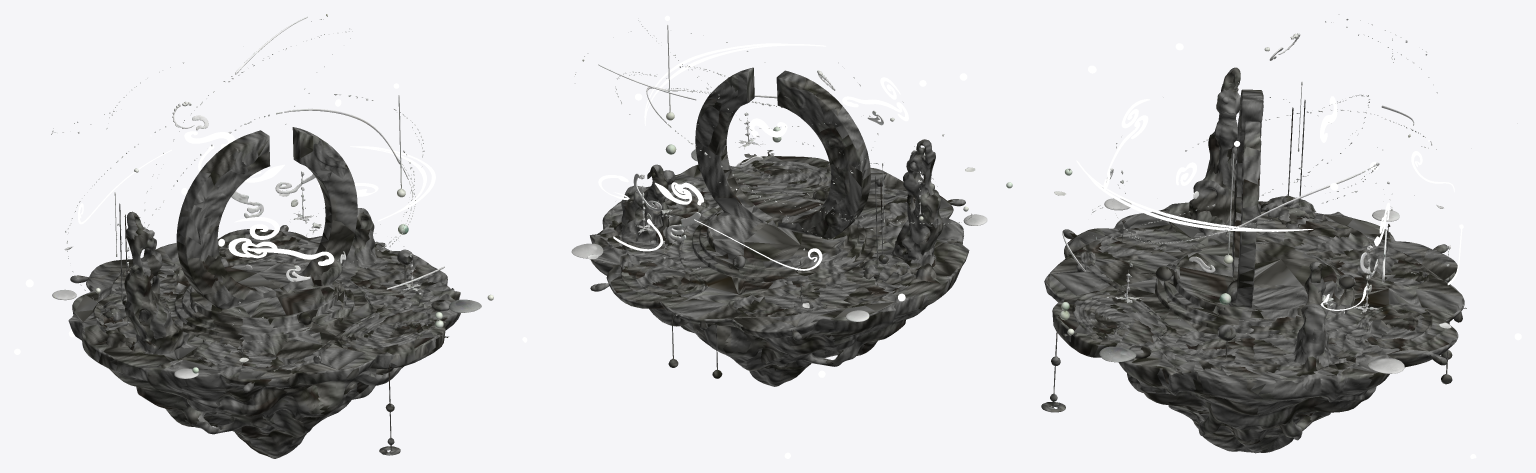
File: house01.glb
3 views of the same model, side by side, from view 1: azimuth 30°, elevation 25°; view 2: azimuth 150°, elevation 25°; view 3: azimuth 270°, elevation 25° (orthographic). The views are drawn at different scales.
Visible parts, largest first — view 1: object 1, object 427, object 229, object 139; view 2: object 1, object 229, object 53; view 3: object 1, object 229, object 139.
Part boxes in pixels (left/top/right/bottom): object 1: left=68, top=127, right=460, bottom=458; object 427: left=228, top=238, right=334, bottom=265; object 229: left=350, top=146, right=435, bottom=221; object 139: left=284, top=95, right=408, bottom=197; object 1: left=590, top=67, right=969, bottom=386; object 229: left=644, top=43, right=825, bottom=125; object 53: left=655, top=182, right=703, bottom=205; object 1: left=1041, top=67, right=1466, bottom=453; object 229: left=1076, top=160, right=1313, bottom=231; object 139: left=1208, top=153, right=1361, bottom=264.
Bounding box in the file's own units: 0.9721 × 0.9759 × 1.04.
Materials: 4 (4 with a texture image).
